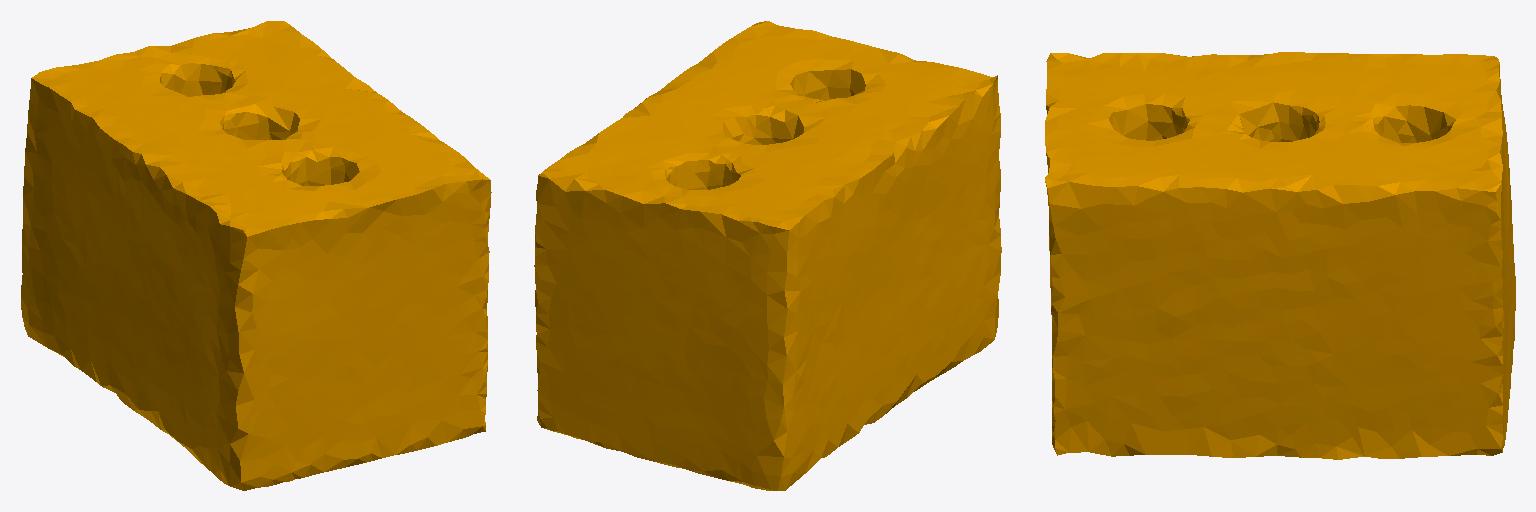
URDF robot description (foamBrick):
<?xml version="1.0" encoding="UTF-8"?>
<robot name="foamBrick">
	<link name="base">
		<collision>
			<geometry>
				<mesh filename="foamBrick.obj"/>
			</geometry>
			<origin xyz="0 0 0"/>
		</collision>
		<visual>
			<geometry>
				<mesh filename="foamBrick.obj"/>
			</geometry>
			<origin xyz="0 0 0"/>
		</visual>
		<inertial>
			<mass value="0.028"/>
			<inertia ixx="1.8932640339833852e-05" ixy="-1.1341965888694523e-07" ixz="-1.7421220699996827e-08" iyy="1.1743308590334546e-05" iyz="1.3219970856999005e-07" izz="1.9416434835416184e-05" />
			<origin xyz="-0.00035667900605085875 -0.00024475679011293813 -0.0006061984890739978"/>
		</inertial>
	</link>
</robot>

--- Facts derived from the render (not from the file) ---
Views: 3 orthographic renders of the robot side by side, from view 1: azimuth 30°, elevation 25°; view 2: azimuth 150°, elevation 25°; view 3: azimuth 270°, elevation 25°.
Robot: foamBrick — 1 links, 0 joints (none); root link base; default pose: all joints at 0.
Links seen in each view (by area): view 1: base; view 2: base; view 3: base.
Link boxes in pixels (<box>): base: <box>21,21,491,490</box>; base: <box>534,21,1001,490</box>; base: <box>1045,52,1515,459</box>.
Bounding box of the posed robot: 0.0525 × 0.0778 × 0.051 m (x, y, z).
Meshes: 1 distinct files referenced, 1 mesh visuals loaded (1 OBJ).